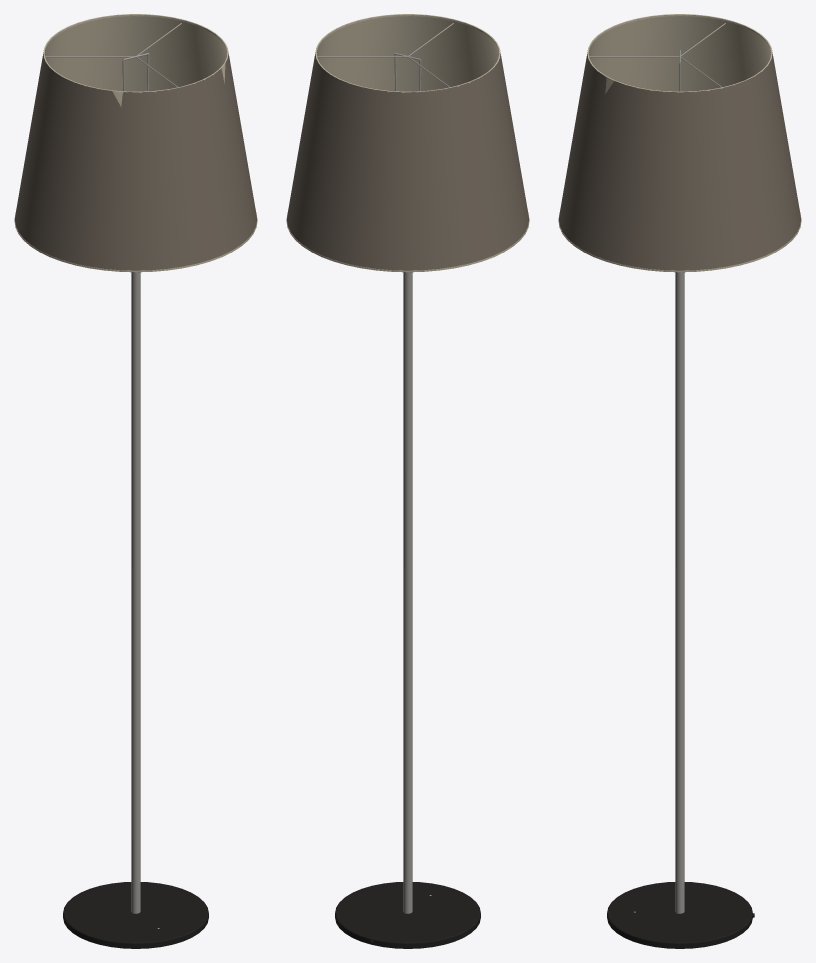
File: bedroom-floor-lamp-66c5e953d5ac.glb
3 views of the same model, side by side, from view 1: azimuth 30°, elevation 25°; view 2: azimuth 150°, elevation 25°; view 3: azimuth 270°, elevation 25° (orthographic).
Visible parts, largest first — view 1: cover-cloth, cloth-cream, enamel-black, brushed; view 2: cover-cloth, cloth-cream, enamel-black, brushed; view 3: cover-cloth, cloth-cream, enamel-black, brushed.
Boxes of the visible parts, x1,y1,x2,y2 form: cover-cloth: (14,54,257,272); cloth-cream: (14,14,257,272); enamel-black: (63,882,208,948); brushed: (45,23,181,928); cover-cloth: (286,54,529,272); cloth-cream: (286,14,529,272); enamel-black: (335,882,480,948); brushed: (317,23,453,913); cover-cloth: (558,54,801,272); cloth-cream: (558,14,801,272); enamel-black: (607,882,752,948); brushed: (589,23,725,913).
Bounding box in the file's own units: 0.4201 × 1.65 × 0.4201.
